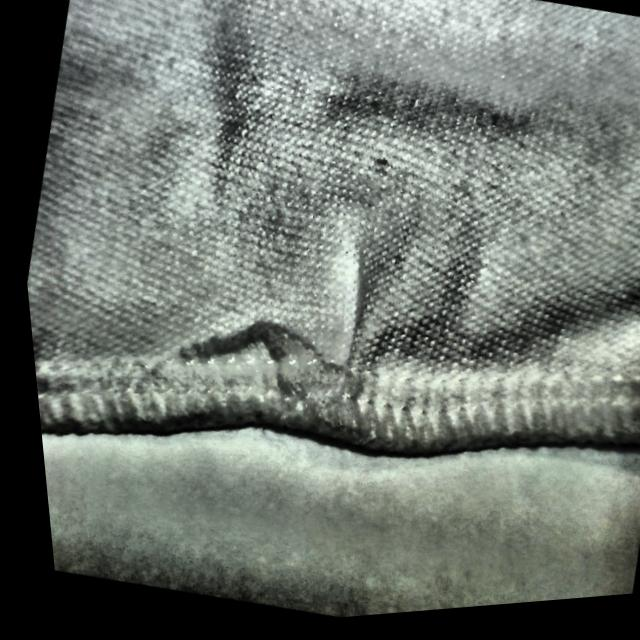seam: (136, 224, 422, 472)
